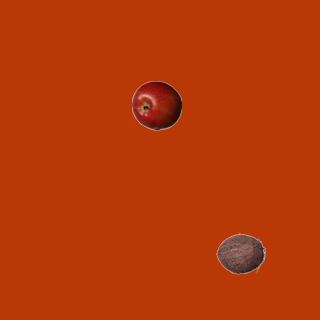Apple Braeburn: (131, 80, 181, 130)
Cocos: (215, 228, 265, 278)
